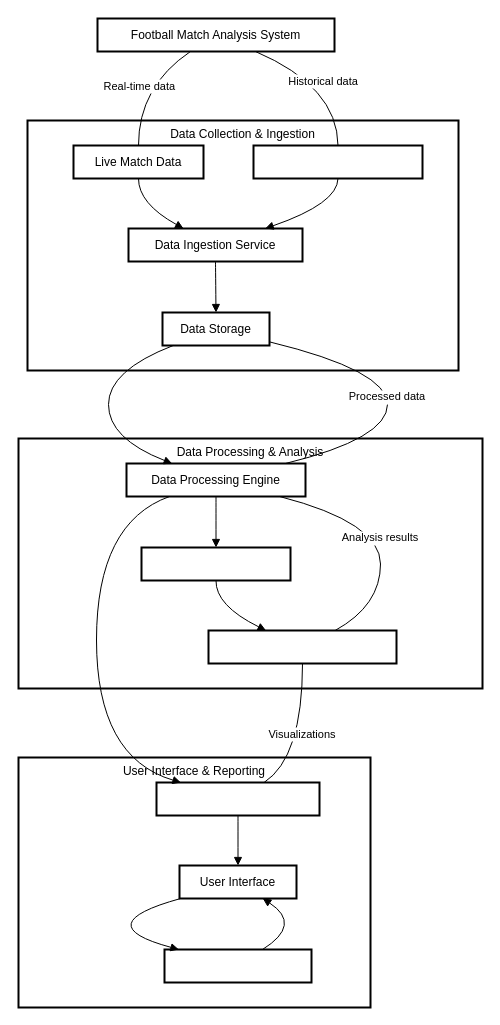
Image size: 500x1025. Some labels were removed from this diagram. The centre of each missing label's shape, as x and y in pixels:
Feature Extraction: the point at 215,563
Historical Match Data: the point at 337,161
Report Generation: the point at 237,965
Tactical Analysis Module: the point at 302,646
Visualization Module: the point at 237,798
